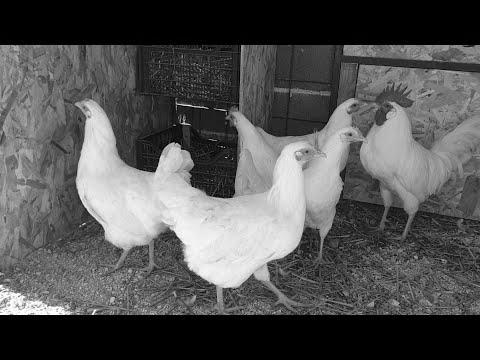Healthy: (149, 129, 333, 312), (362, 70, 479, 244)
